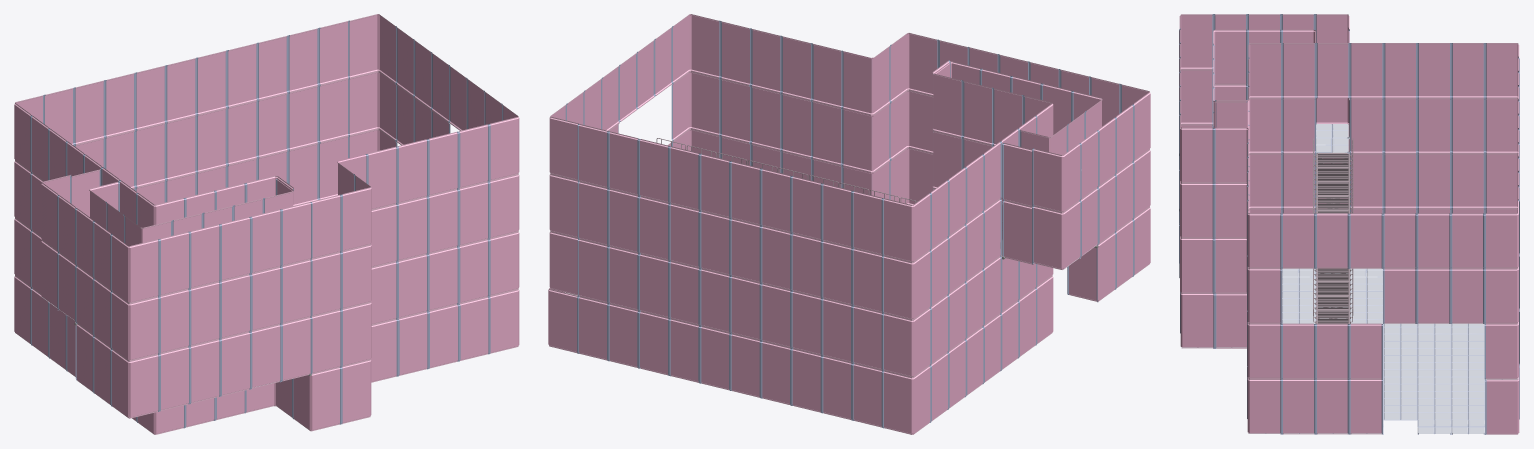
The model's file is Room_2_Model_04.fbx.
3 renders of one model, left to right at view 1: azimuth 30°, elevation 25°; view 2: azimuth 150°, elevation 25°; view 3: azimuth 270°, elevation 25°, orthographic. The views are drawn at different scales.
Parts seen in each view (by area): view 1: polySurface194; view 2: polySurface194; view 3: polySurface194.
Part boxes in pixels (x1,y1,x2,y2): polySurface194: (14, 14, 519, 434); polySurface194: (548, 14, 1150, 434); polySurface194: (1179, 14, 1519, 434).
Size of the model in its own units: 2808 by 1441 by 2015.
